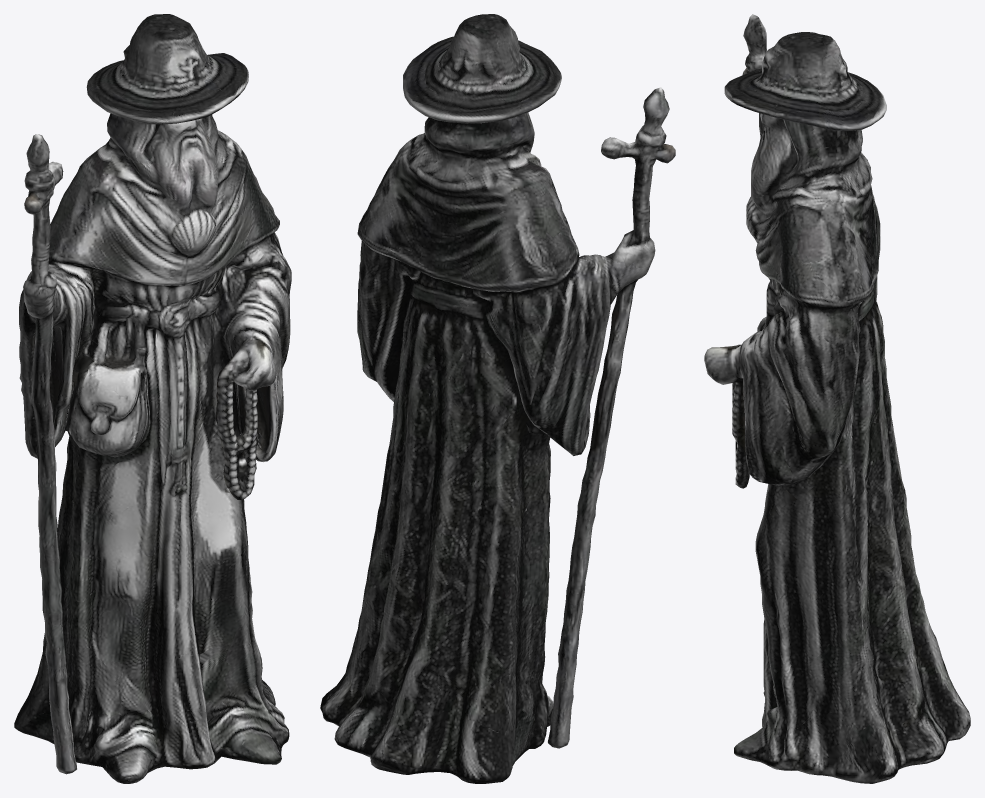
File: Clergy_Pilgrim.glb
3 renders of one model, left to right at view 1: azimuth 30°, elevation 25°; view 2: azimuth 150°, elevation 25°; view 3: azimuth 270°, elevation 25°, orthographic. The views are drawn at different scales.
Size of the model in its own units: 0.8336 by 1.91 by 0.6692.
Materials: 1 (1 with a texture image).
